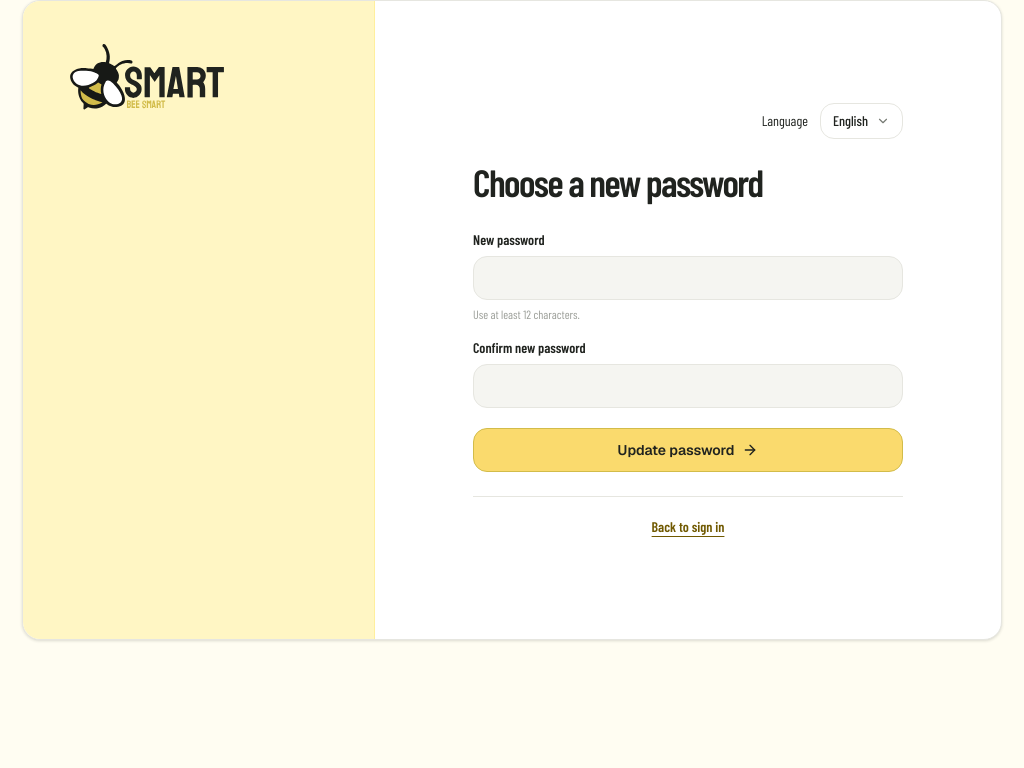
Test: authentication pages › validates matching passwords on the reset page
In the password field labelled "New password": (688, 278) [473, 256, 903, 300], type "a-new-secure-password"
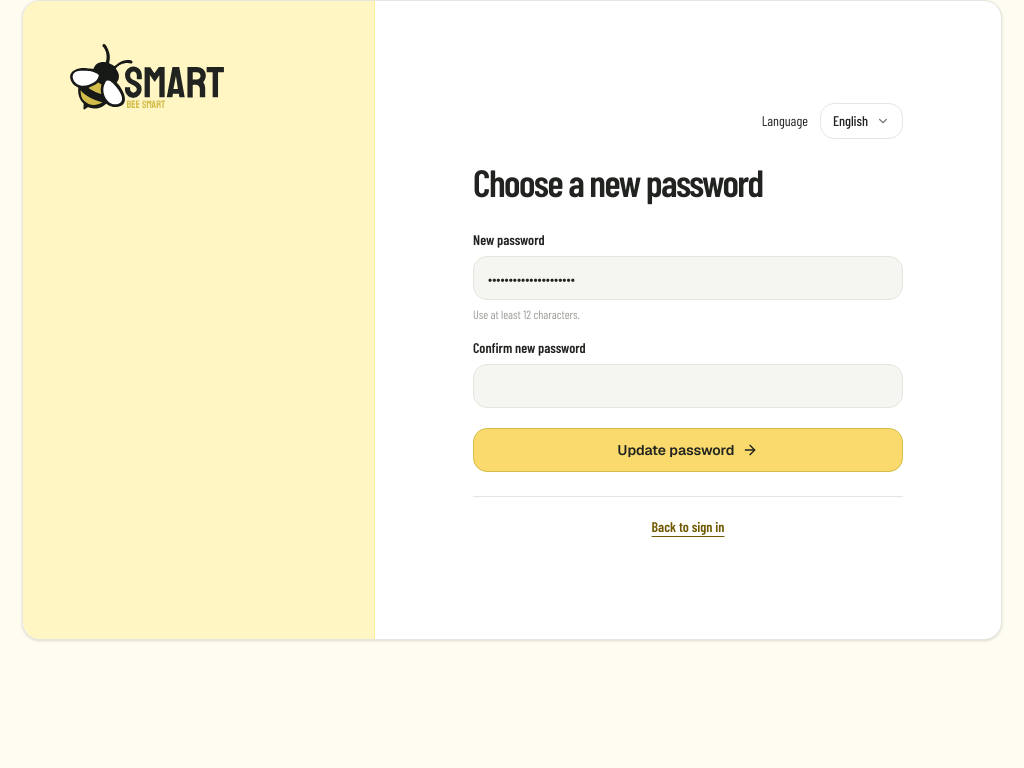
In the password field labelled "Confirm new password": (688, 386) [473, 364, 903, 408], type "different-password"
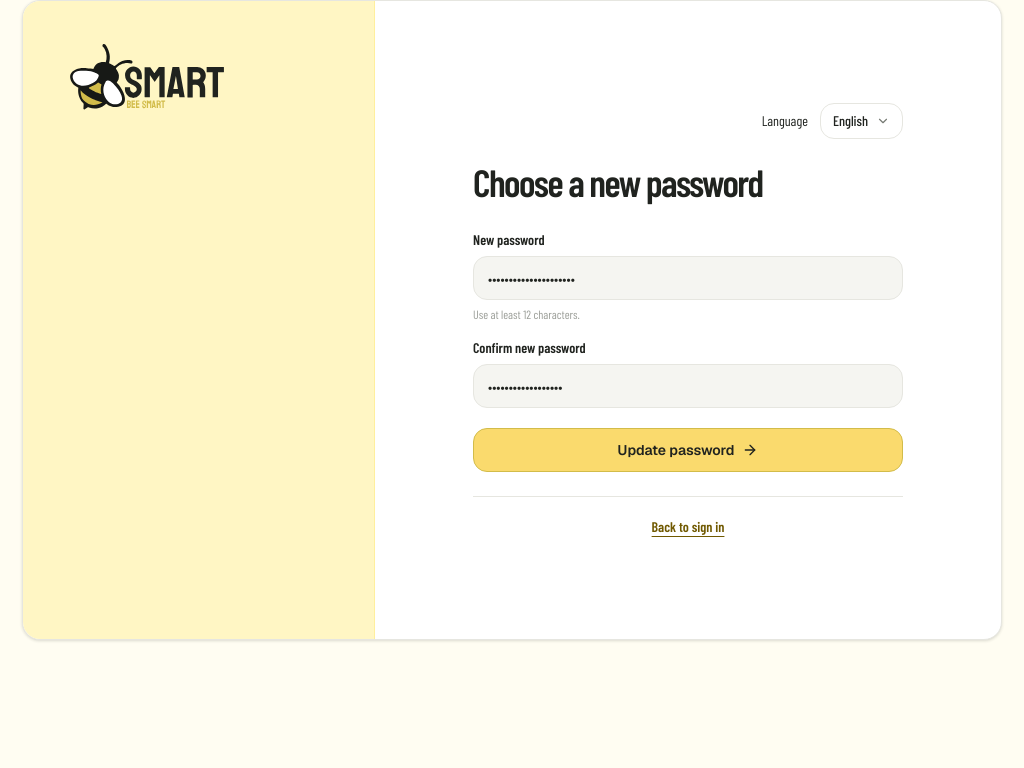
Click the button "Update password": (688, 450) [473, 428, 903, 472]
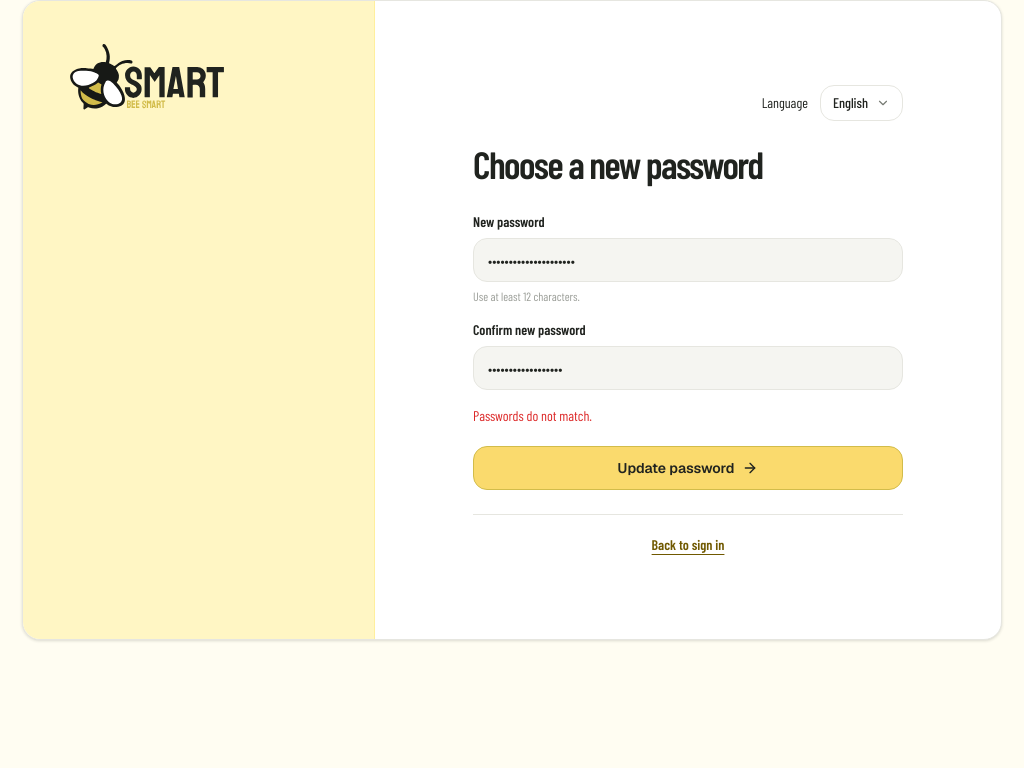
Now the message shows "Passwords do not match", box [473, 407, 592, 424]
